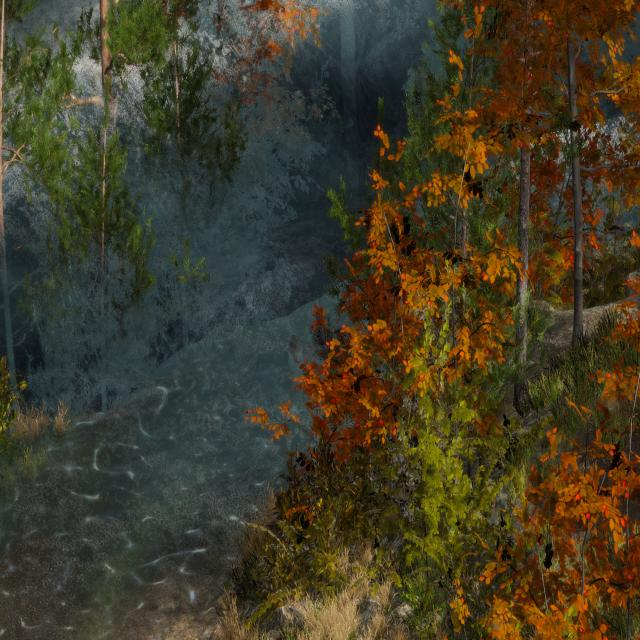Human: (274, 316, 316, 416)
